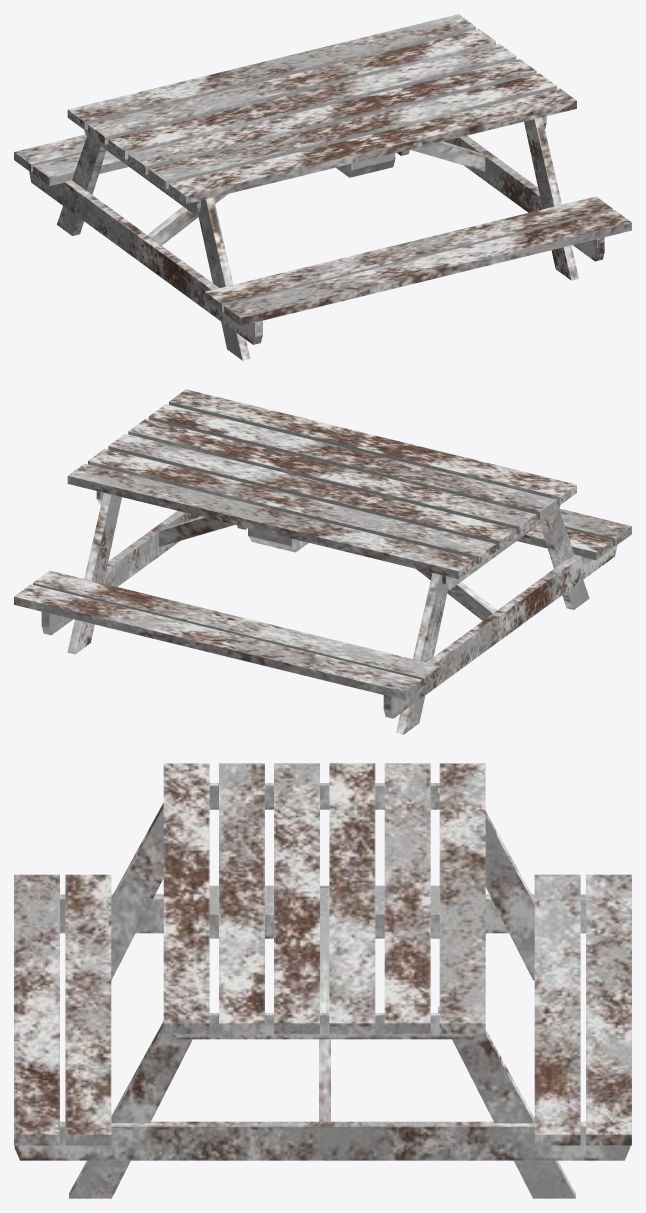
File: meja_kayu.glb
The picture shows the model from 3 angles, top to bottom: view 1: azimuth 30°, elevation 25°; view 2: azimuth 150°, elevation 25°; view 3: azimuth 270°, elevation 25°; orthographic projection. The views are drawn at different scales.
Visible parts, largest first — view 1: b_table; view 2: b_table; view 3: b_table.
Boxes of the visible parts, x1,y1,x2,y2 form: b_table: [14, 14, 631, 360]; b_table: [14, 389, 631, 734]; b_table: [14, 763, 631, 1198].
Bounding box in the file's own units: 2.15 × 0.76 × 2.16.
1 material, 1 textured.
